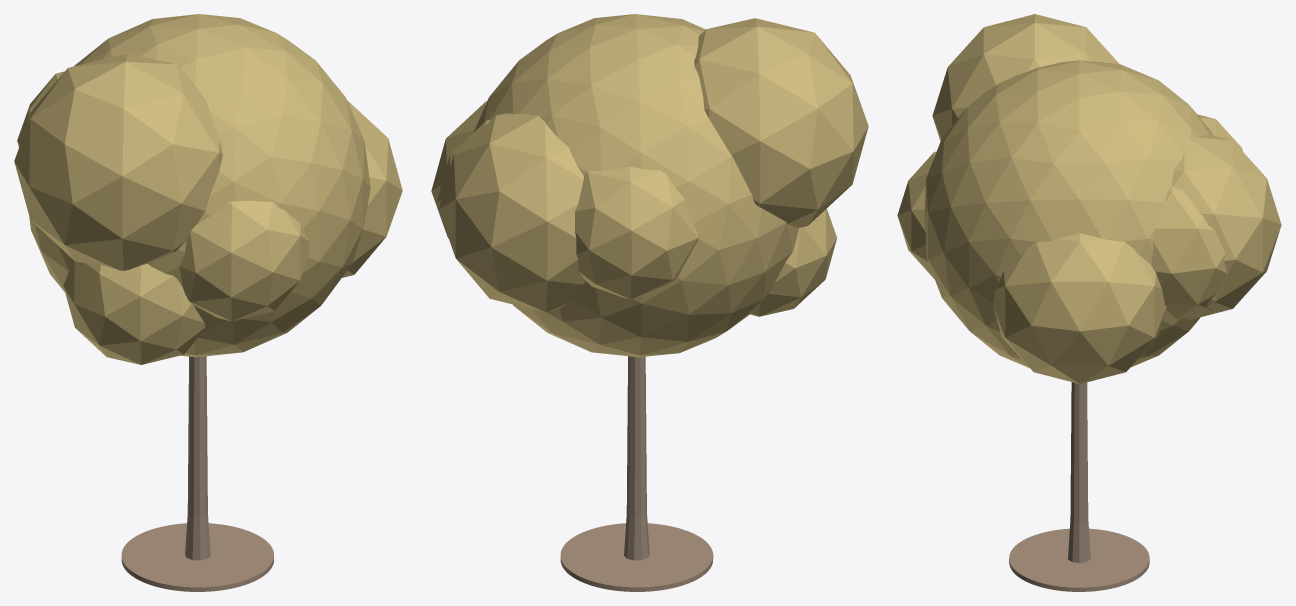
Rendered from tree_b.glb.
The picture shows the model from 3 angles, left to right: view 1: azimuth 30°, elevation 25°; view 2: azimuth 150°, elevation 25°; view 3: azimuth 270°, elevation 25°; orthographic projection. The views are drawn at different scales.
Visible parts, largest first — view 1: tree_b_leaf2, tree_b_mulch, tree_b_bark; view 2: tree_b_leaf2, tree_b_mulch, tree_b_bark; view 3: tree_b_leaf2, tree_b_mulch, tree_b_bark.
Boxes of the visible parts, bbox=[...] form: tree_b_leaf2: bbox=[14, 14, 402, 364]; tree_b_mulch: bbox=[121, 523, 273, 591]; tree_b_bark: bbox=[185, 356, 210, 560]; tree_b_leaf2: bbox=[431, 14, 868, 357]; tree_b_mulch: bbox=[560, 523, 713, 591]; tree_b_bark: bbox=[624, 356, 649, 560]; tree_b_leaf2: bbox=[897, 14, 1281, 383]; tree_b_mulch: bbox=[1009, 528, 1149, 591]; tree_b_bark: bbox=[1068, 382, 1090, 562].
Size of the model in its own units: 4.36 by 5.85 by 4.1.
